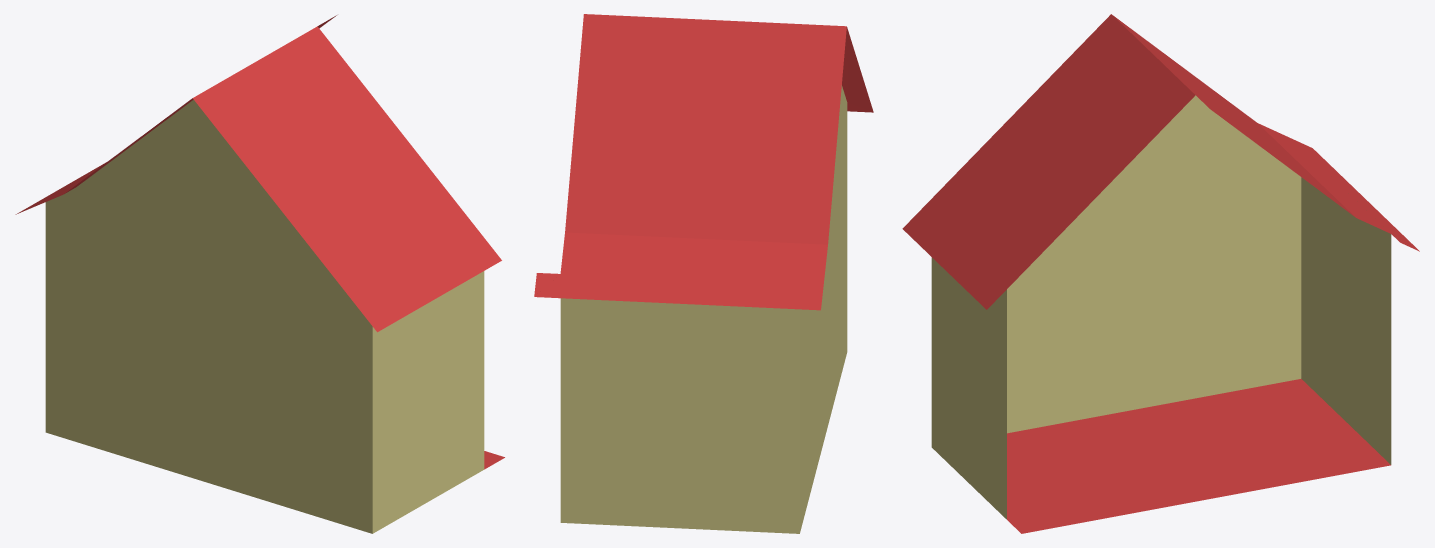
3 views of the same model, side by side, from view 1: azimuth 30°, elevation 25°; view 2: azimuth 150°, elevation 25°; view 3: azimuth 270°, elevation 25° (orthographic). The views are drawn at different scales.
Bounding box in the file's own units: 8.93 × 11.68 × 9.69.
